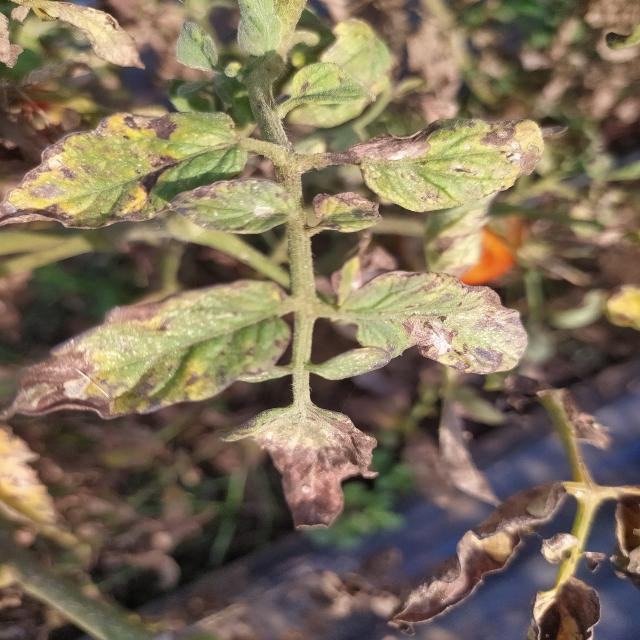Tomato mosaic virus leaf: (0, 105, 254, 234), (352, 111, 550, 215)
